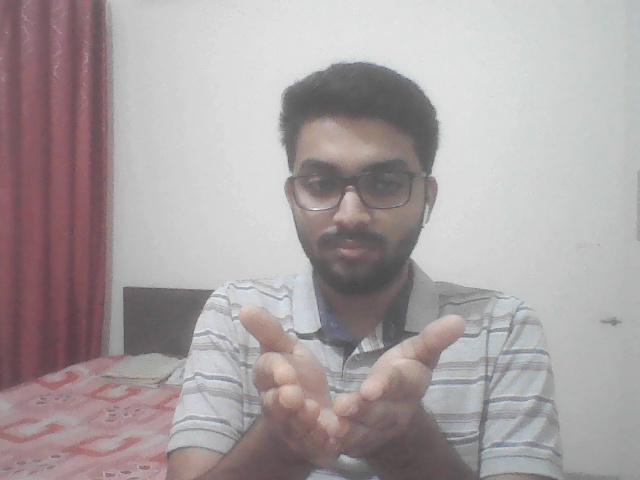book: (215, 277, 487, 466)
